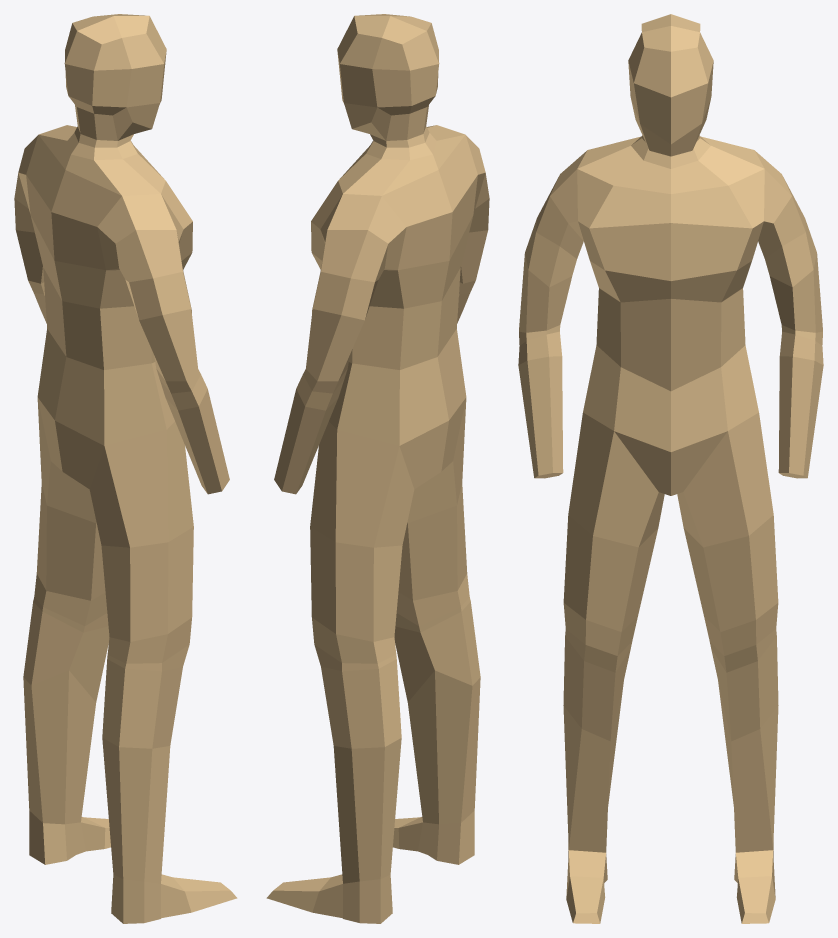
Rendered from Humanoid.fbx.
3 renders of one model, left to right at view 1: azimuth 30°, elevation 25°; view 2: azimuth 150°, elevation 25°; view 3: azimuth 270°, elevation 25°, orthographic.
Parts seen in each view (by area): view 1: Body; view 2: Body; view 3: Body.
Part boxes in pixels (x1,y1,x2,y2): Body: (14,14,237,923); Body: (266,14,489,923); Body: (518,14,823,923).
Size of the model in its own units: 0.3004 by 1.8 by 0.5768.
